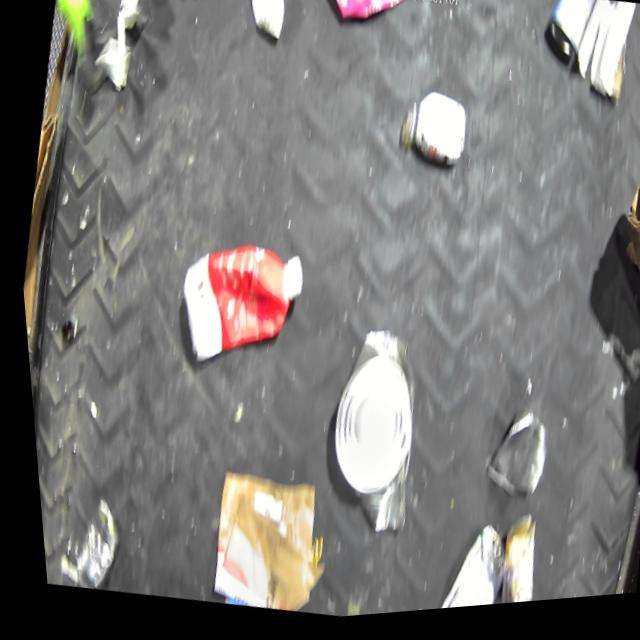can: (300, 322, 434, 544), (469, 405, 549, 509), (418, 519, 504, 615), (56, 493, 122, 595), (476, 517, 538, 612), (540, 1, 599, 74)
non_white_jug: (161, 234, 310, 384)
